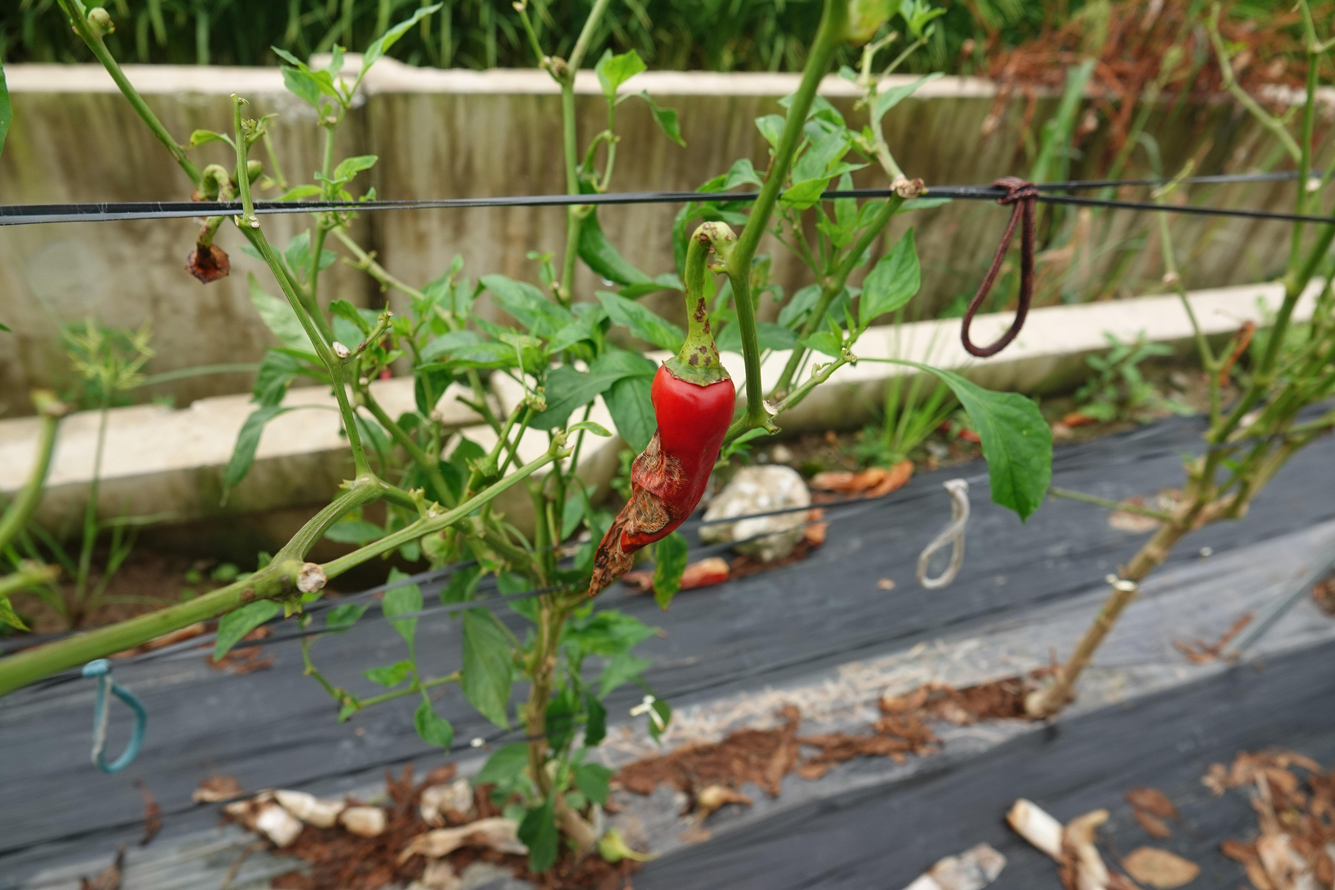Busuk Buah Antraknosa: (583, 349, 743, 600)
